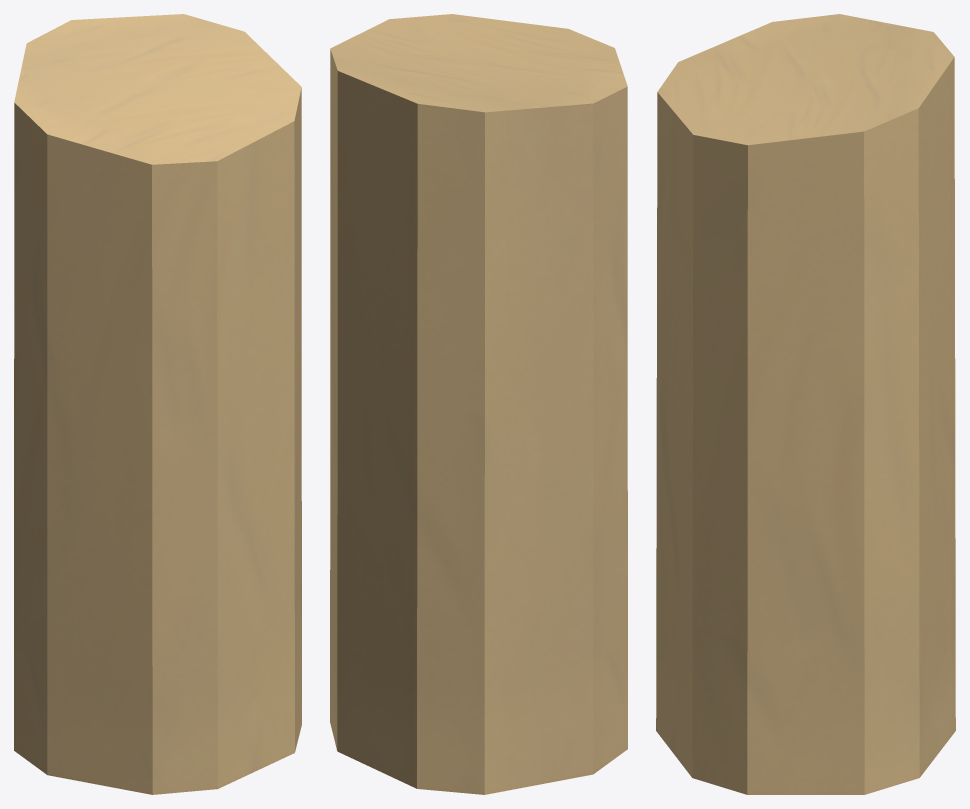
Rendered from ColumnB.FBX.
3 views of the same model, side by side, from view 1: azimuth 30°, elevation 25°; view 2: azimuth 150°, elevation 25°; view 3: azimuth 270°, elevation 25° (orthographic). The views are drawn at different scales.
Parts seen in each view (by area): view 1: ColumnB; view 2: ColumnB; view 3: ColumnB.
Boxes of the visible parts, <box> form: ColumnB: <box>14,14,301,794</box>; ColumnB: <box>330,14,627,794</box>; ColumnB: <box>656,14,955,794</box>.
Size of the model in its own units: 7.87 by 8.27 by 20.53.
1 material, 1 textured.
